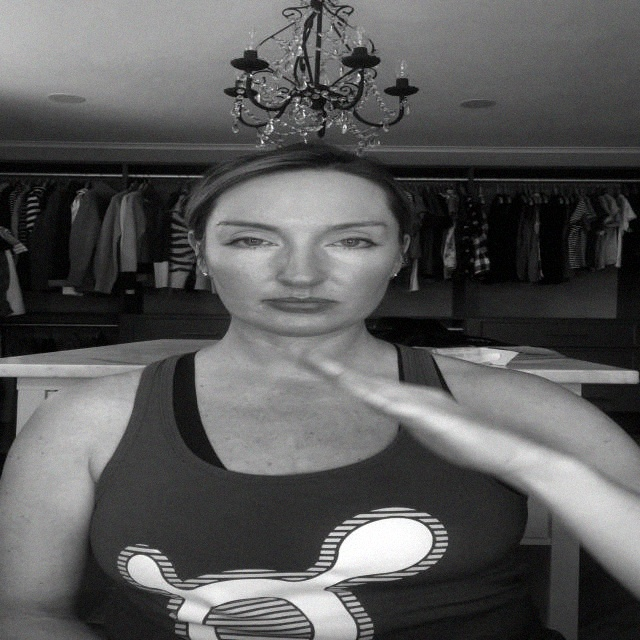Paper: (297, 351, 556, 481)
